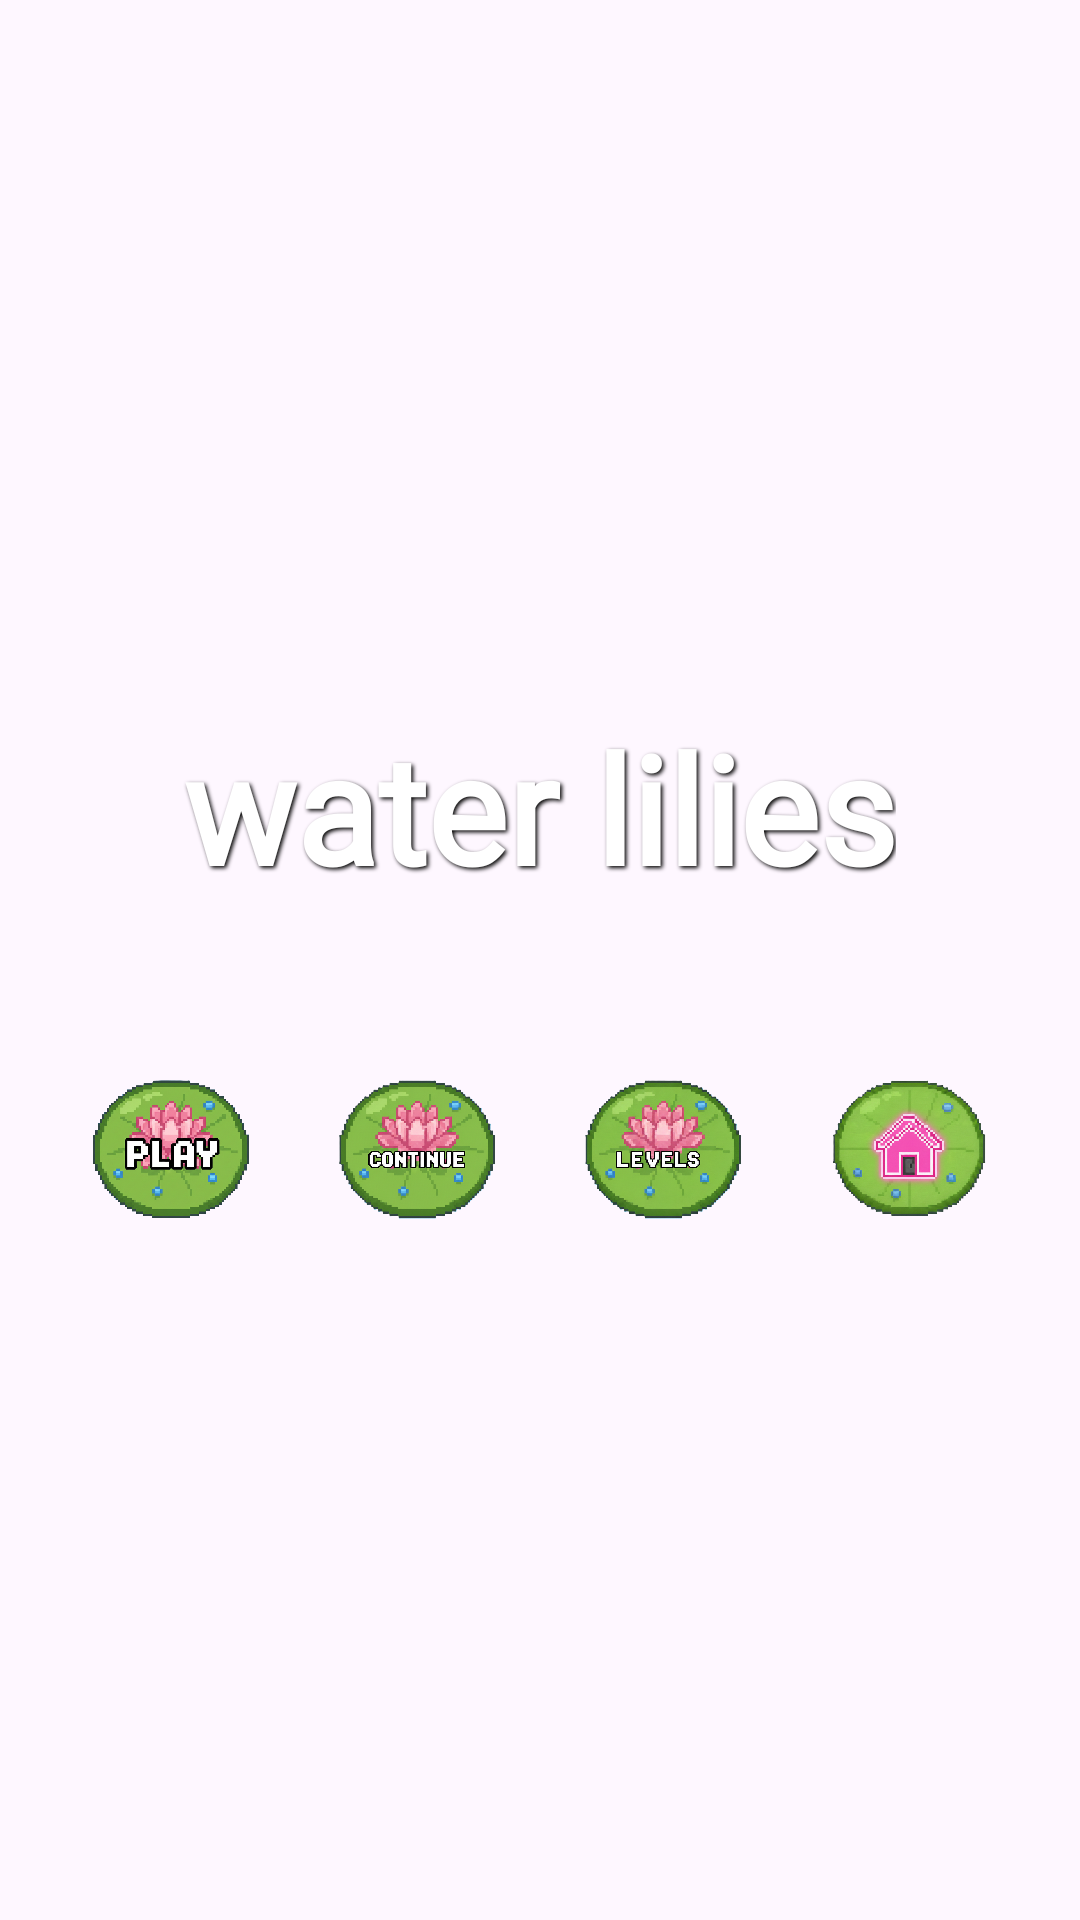

Locate icon controls on the screen. Image size 1080 x 1920, boxes as region(x1, y1, x2, y2).
HOME: region(833, 1081, 985, 1216)
